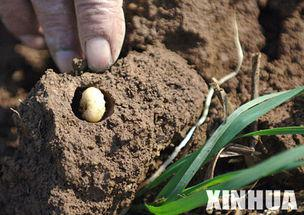grub: (77, 88, 110, 122)
